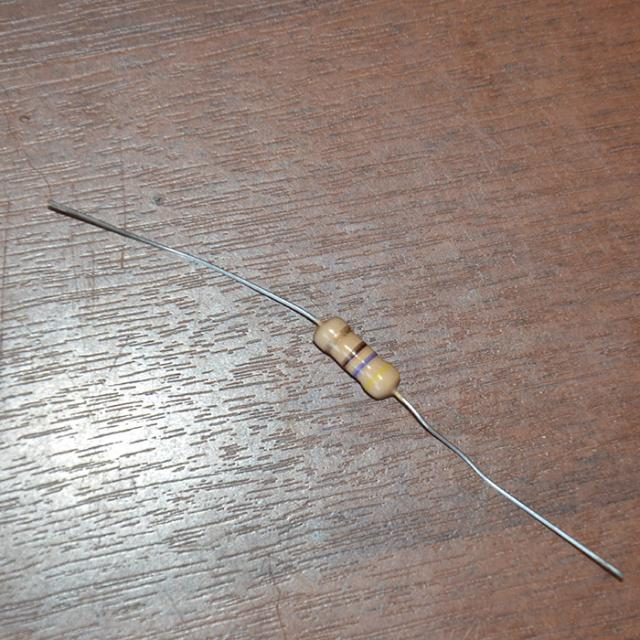brown: (340, 340, 367, 367)
gold: (325, 326, 352, 351)
resistor: (296, 302, 411, 411)
violet: (352, 353, 377, 376)
yellow: (367, 363, 390, 389)
